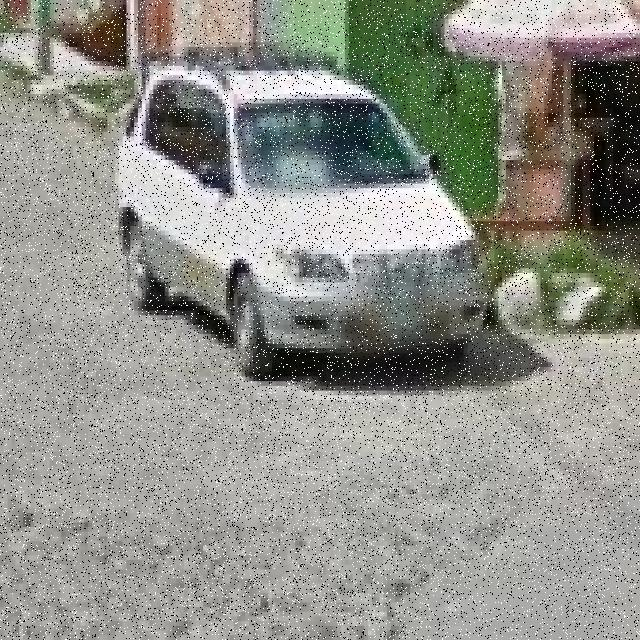cars: (117, 35, 490, 380)
